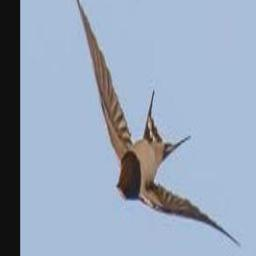Swallow: (64, 0, 242, 247)
